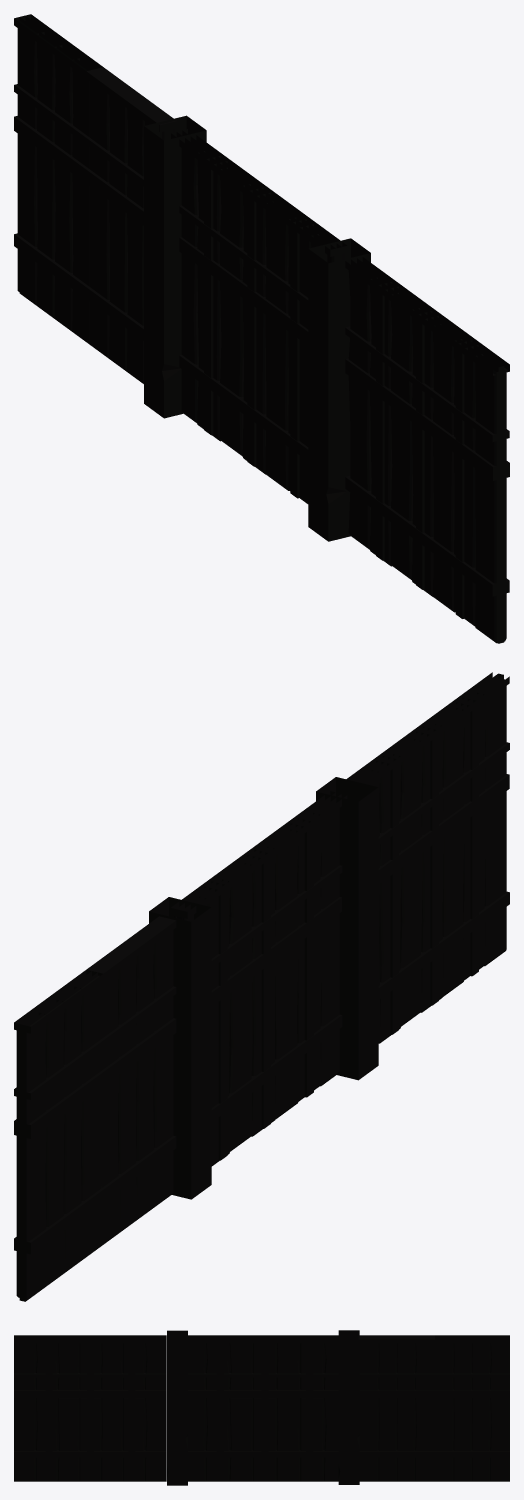
The model's file is Wall.fbx.
The picture shows the model from 3 angles, top to bottom: view 1: azimuth 30°, elevation 25°; view 2: azimuth 150°, elevation 25°; view 3: azimuth 270°, elevation 25°; orthographic projection. The views are drawn at different scales.
Visible parts, largest first — view 1: SFT_Building_Attachable_Interior_Wall; view 2: SFT_Building_Attachable_Interior_Wall; view 3: SFT_Building_Attachable_Interior_Wall.
Part boxes in pixels (x1,y1,x2,y2): SFT_Building_Attachable_Interior_Wall: (14,14,509,643); SFT_Building_Attachable_Interior_Wall: (14,672,509,1301); SFT_Building_Attachable_Interior_Wall: (14,1330,509,1485).
Size of the model in its own units: 19.55 by 119 by 369.
